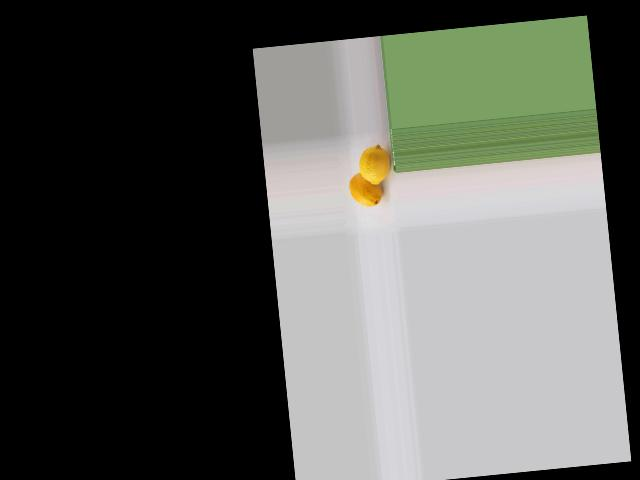lemon: (347, 173, 381, 209)
